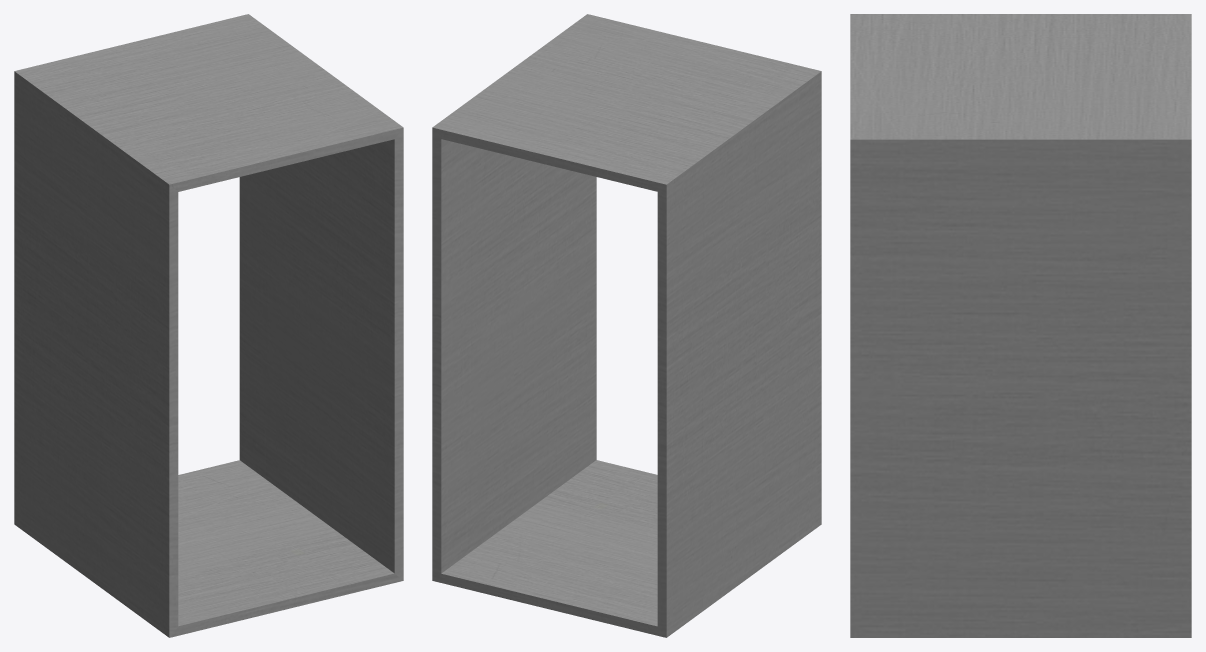
The model's file is acidcab_case_2.gltf.
The picture shows the model from 3 angles, left to right: view 1: azimuth 30°, elevation 25°; view 2: azimuth 150°, elevation 25°; view 3: azimuth 270°, elevation 25°; orthographic projection. The views are drawn at different scales.
Parts seen in each view (by area): view 1: acidcab_2_Cube.053; view 2: acidcab_2_Cube.053; view 3: acidcab_2_Cube.053.
Boxes of the visible parts, <box> form: acidcab_2_Cube.053: <box>14,14,403,637</box>; acidcab_2_Cube.053: <box>432,14,821,637</box>; acidcab_2_Cube.053: <box>850,14,1191,637</box>.
Bounding box in the file's own units: 2.02 × 3.73 × 2.32.
Materials: 1 (1 with a texture image).
